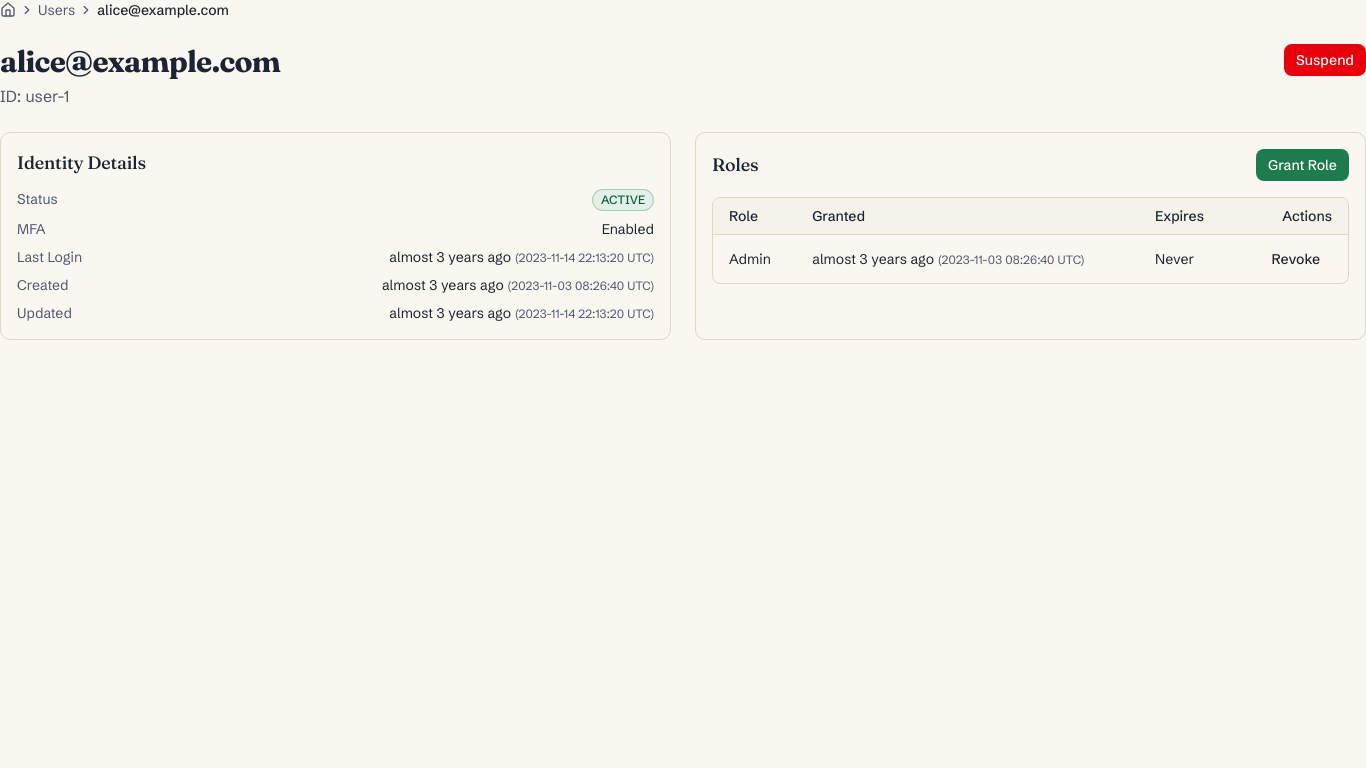
UserDetailPage › opens suspend dialog on button click
Click the button "Suspend". click: click(1325, 60)
box: top-left (1284, 44), bottom-right (1365, 76)
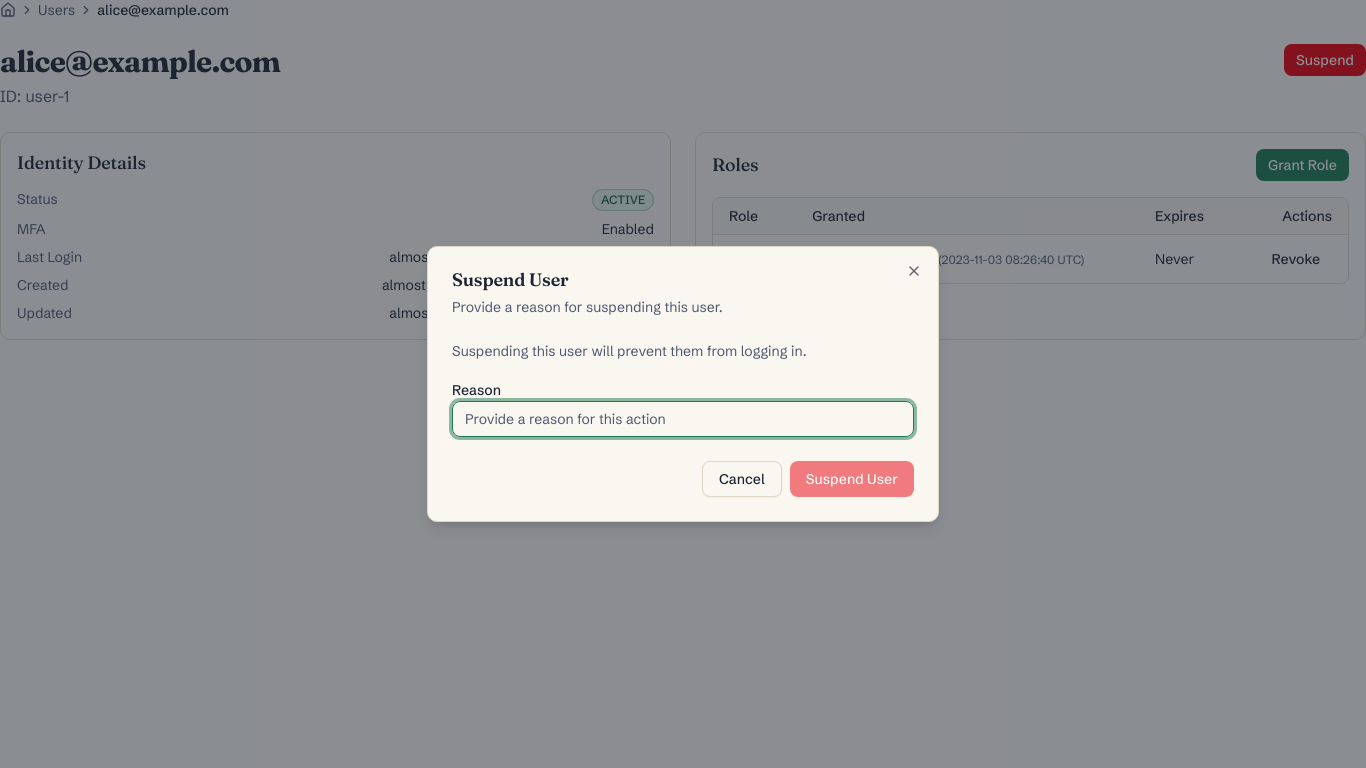
expect the dialog is shown: met, box top-left (427, 246), bottom-right (939, 522)
expect the text "Suspending this user will prevent them from logging in." is shown: met, box top-left (452, 342), bottom-right (807, 360)
